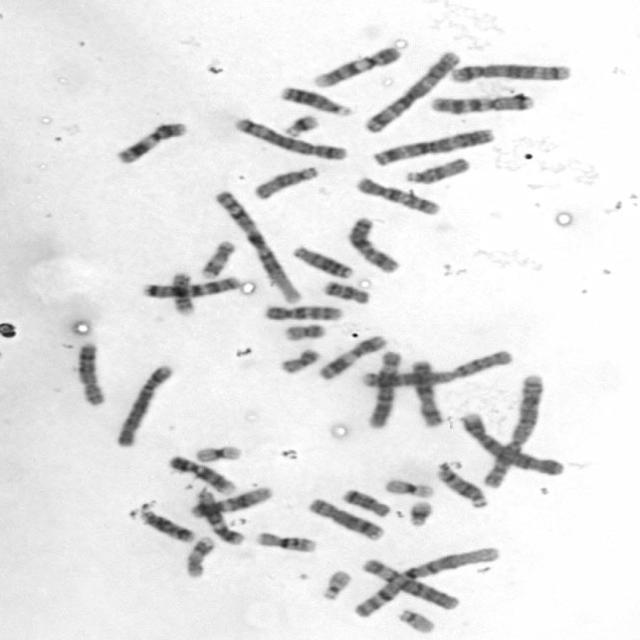A1: (349, 542, 503, 620), (209, 187, 303, 305)
A2: (478, 371, 547, 490), (358, 346, 513, 390)
A3: (360, 48, 462, 134), (368, 125, 497, 167)
B4: (455, 409, 567, 477), (110, 361, 175, 449)
B5: (230, 114, 349, 162), (447, 60, 573, 85)
C10: (350, 174, 441, 216), (260, 302, 346, 323)
C11: (110, 118, 192, 166), (314, 331, 388, 381)
C12: (193, 486, 245, 546), (187, 484, 274, 519)
C6: (358, 556, 460, 610), (362, 348, 403, 430)
C7: (424, 90, 535, 116), (139, 273, 241, 299)
C8: (303, 495, 386, 542), (74, 339, 108, 407)
C9: (308, 42, 404, 89), (166, 452, 237, 496)
D13: (275, 82, 352, 117), (288, 242, 356, 280)
D14: (434, 462, 488, 509), (137, 506, 196, 544)
D15: (249, 162, 320, 200), (401, 154, 471, 186)
E16: (252, 529, 318, 553), (168, 269, 198, 316)
E17: (197, 238, 237, 280), (181, 534, 216, 580)
E18: (339, 487, 392, 518), (320, 277, 370, 305)
F19: (381, 476, 436, 499), (192, 442, 243, 464)
F20: (276, 345, 322, 375), (280, 321, 328, 341)
G21: (280, 112, 322, 138), (403, 497, 434, 528)
G22: (394, 606, 438, 634), (318, 567, 352, 601)
X: (342, 214, 403, 274), (409, 356, 445, 428)
